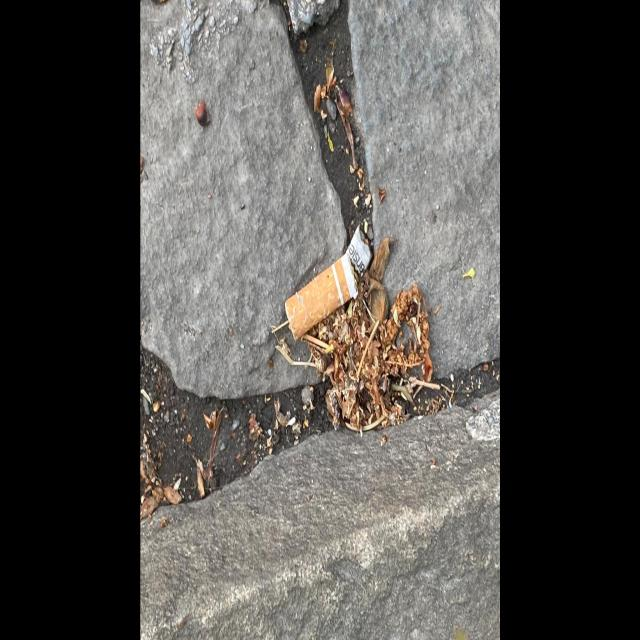other waste: (284, 223, 373, 341)
